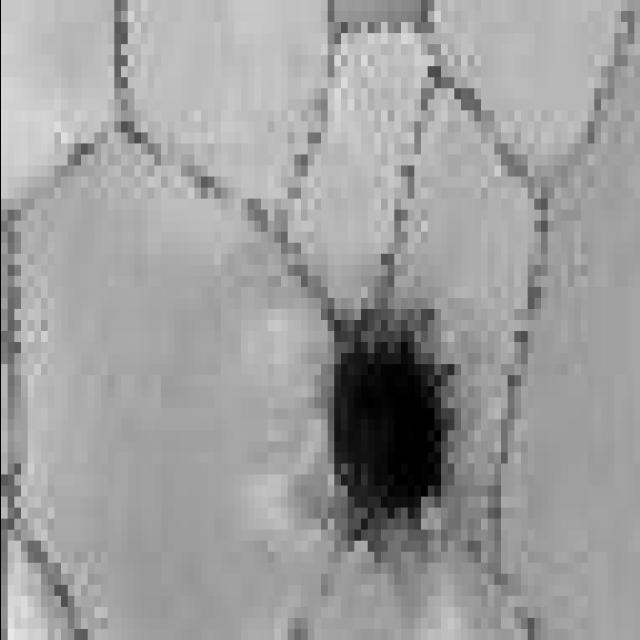good_void: (320, 290, 460, 559)
